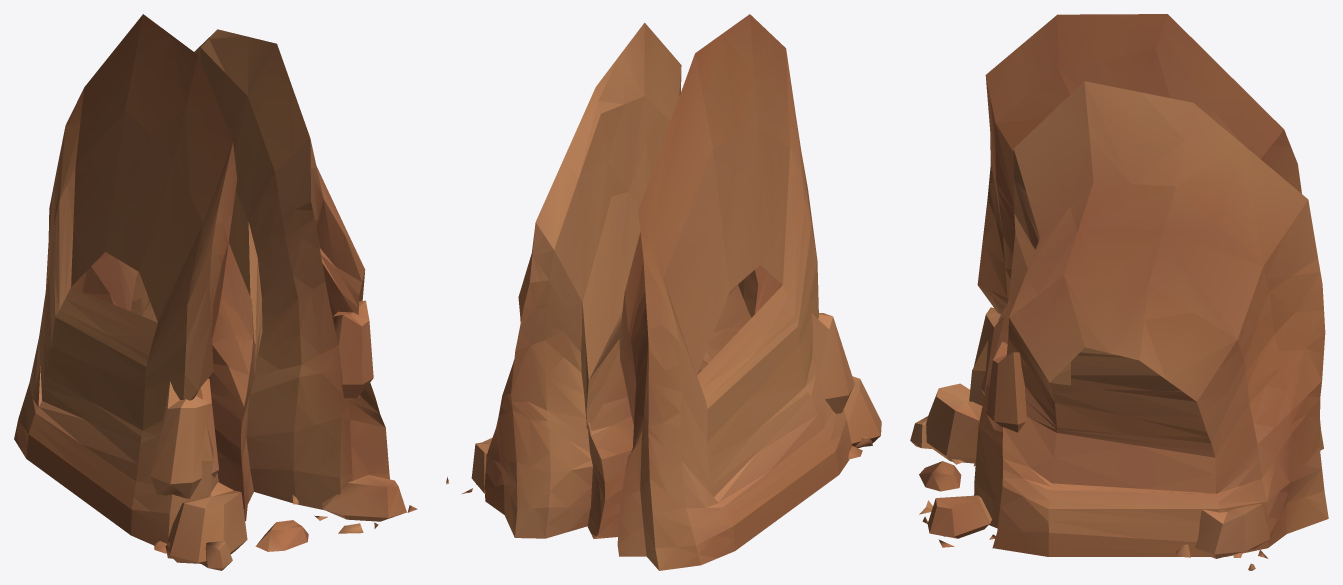
File: fractured-spire-lod.glb
3 renders of one model, left to right at view 1: azimuth 30°, elevation 25°; view 2: azimuth 150°, elevation 25°; view 3: azimuth 270°, elevation 25°, orthographic.
Parts seen in each view (by area): view 1: canyon-buttress; view 2: canyon-buttress; view 3: canyon-buttress.
Boxes of the visible parts, x1=… form: canyon-buttress: x1=14, y1=14, x2=417, y2=570; canyon-buttress: x1=446, y1=14, x2=881, y2=570; canyon-buttress: x1=910, y1=14, x2=1328, y2=570.
Size of the model in its own units: 80 by 120 by 100.
